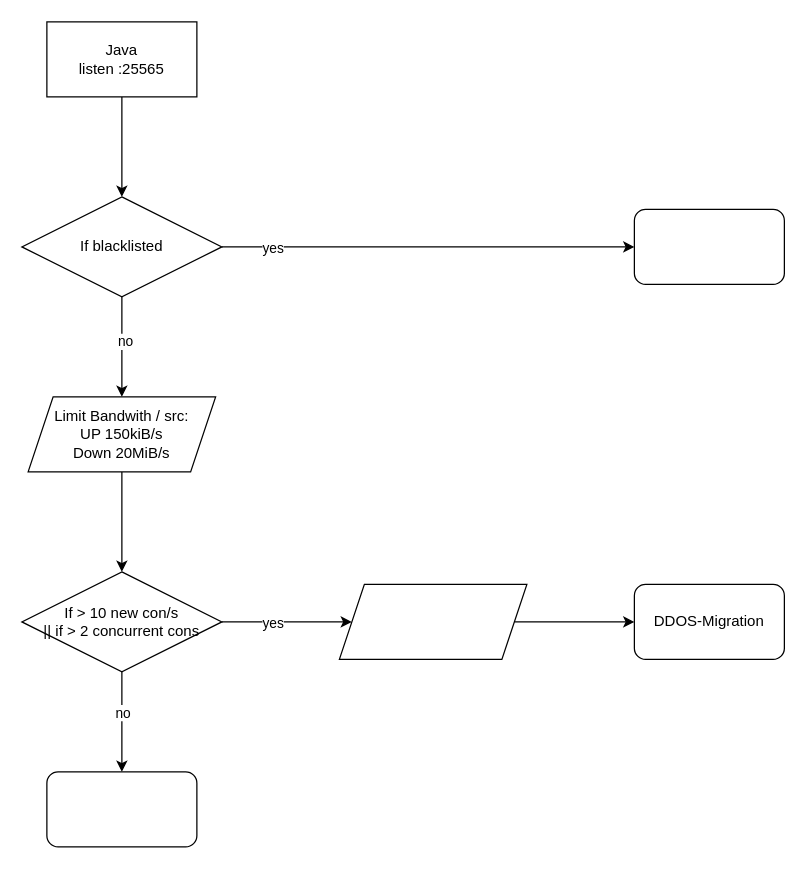
This 806x869 diagram has some shape labels left out. Each missing label, with the centre of its shape:
Limit Bandwith / src: UP 150B/s: point (432, 621)
Prod_Proxy: point (121, 809)
Reject Connection: point (708, 246)
